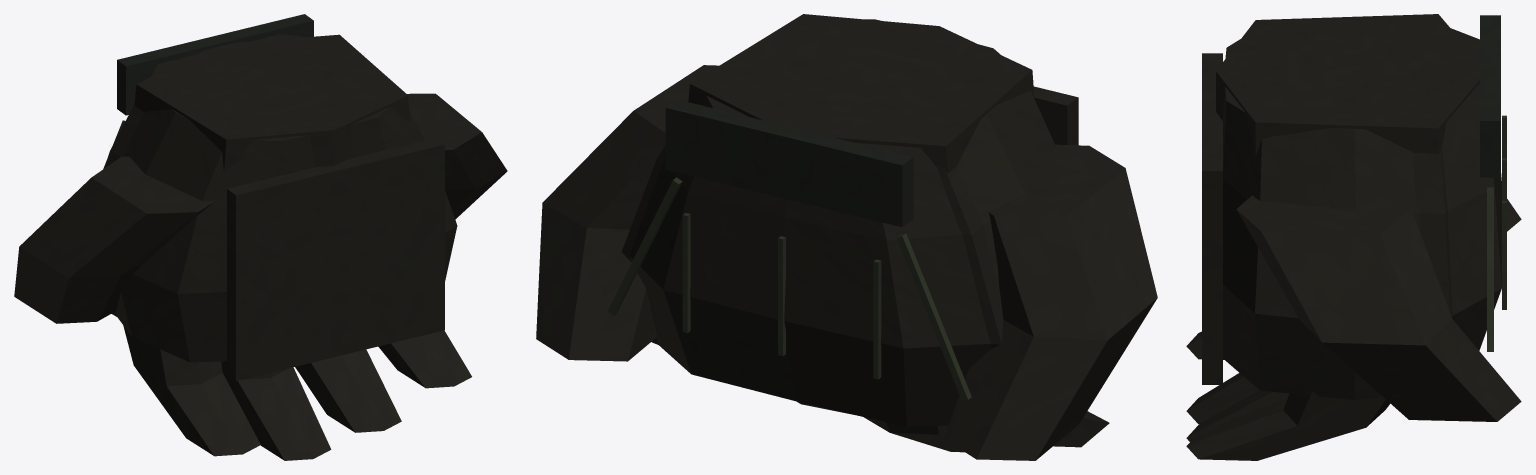
File: gloves_leather.glb
3 renders of one model, left to right at view 1: azimuth 30°, elevation 25°; view 2: azimuth 150°, elevation 25°; view 3: azimuth 270°, elevation 25°, orthographic. The views are drawn at different scales.
Visible parts, largest first — view 1: gloves_leather_foreL_LOD0_RAID_leather.001, gloves_leather_foreR_LOD0_RAID_leather.001, gloves_leather_foreL_LOD1_RAID_leather.001, gloves_leather_foreL_LOD0_RAID_rubber.002, gloves_leather_foreL_LOD1_RAID_rubber.002; view 2: gloves_leather_foreL_LOD0_RAID_leather.001, gloves_leather_foreR_LOD0_RAID_leather.001, gloves_leather_foreL_LOD0_RAID_rubber.002, gloves_leather_foreL_LOD1_RAID_rubber.002, gloves_leather_foreL_LOD1_RAID_leather.001, gloves_leather_foreL_LOD0_RAID_seam.002, gloves_leather_foreR_LOD0_RAID_seam.002; view 3: gloves_leather_foreL_LOD0_RAID_leather.001, gloves_leather_foreL_LOD1_RAID_leather.001, gloves_leather_foreL_LOD1_RAID_rubber.002, gloves_leather_foreL_LOD0_RAID_seam.002, gloves_leather_foreL_LOD0_RAID_rubber.002.
Part boxes in pixels (x1,y1,x2,y2): gloves_leather_foreL_LOD0_RAID_leather.001: (115,34,507,460); gloves_leather_foreR_LOD0_RAID_leather.001: (14,156,215,323); gloves_leather_foreL_LOD1_RAID_leather.001: (104,104,444,380); gloves_leather_foreL_LOD0_RAID_rubber.002: (117,18,313,110); gloves_leather_foreL_LOD1_RAID_rubber.002: (117,14,313,115); gloves_leather_foreL_LOD0_RAID_leather.001: (536,14,1109,452); gloves_leather_foreR_LOD0_RAID_leather.001: (944,144,1157,460); gloves_leather_foreL_LOD0_RAID_rubber.002: (665,105,913,223); gloves_leather_foreL_LOD1_RAID_rubber.002: (665,99,913,227); gloves_leather_foreL_LOD1_RAID_leather.001: (621,86,1078,349); gloves_leather_foreL_LOD0_RAID_seam.002: (607,177,881,379); gloves_leather_foreR_LOD0_RAID_seam.002: (896,233,971,401); gloves_leather_foreL_LOD0_RAID_leather.001: (1186,14,1521,460); gloves_leather_foreL_LOD1_RAID_leather.001: (1202,53,1452,384); gloves_leather_foreL_LOD1_RAID_rubber.002: (1480,15,1500,177); gloves_leather_foreL_LOD0_RAID_seam.002: (1487,115,1506,351); gloves_leather_foreL_LOD0_RAID_rubber.002: (1480,25,1500,169).
Size of the model in its own units: 0.1719 by 0.115 by 0.0965.
Materials: 3 (3 with a texture image).
